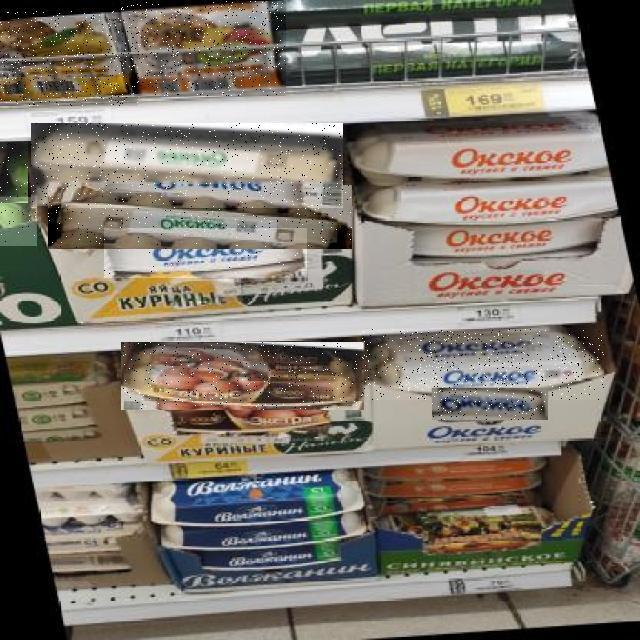Eggs: (31, 124, 343, 208), (48, 185, 352, 249), (362, 329, 604, 400), (121, 342, 364, 410), (117, 1, 287, 96), (0, 11, 138, 106), (104, 228, 307, 278), (432, 388, 548, 420), (0, 197, 37, 246), (0, 142, 28, 203)
